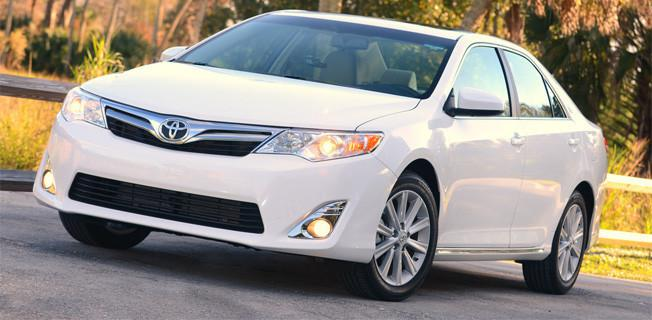Car: (24, 1, 621, 308)
